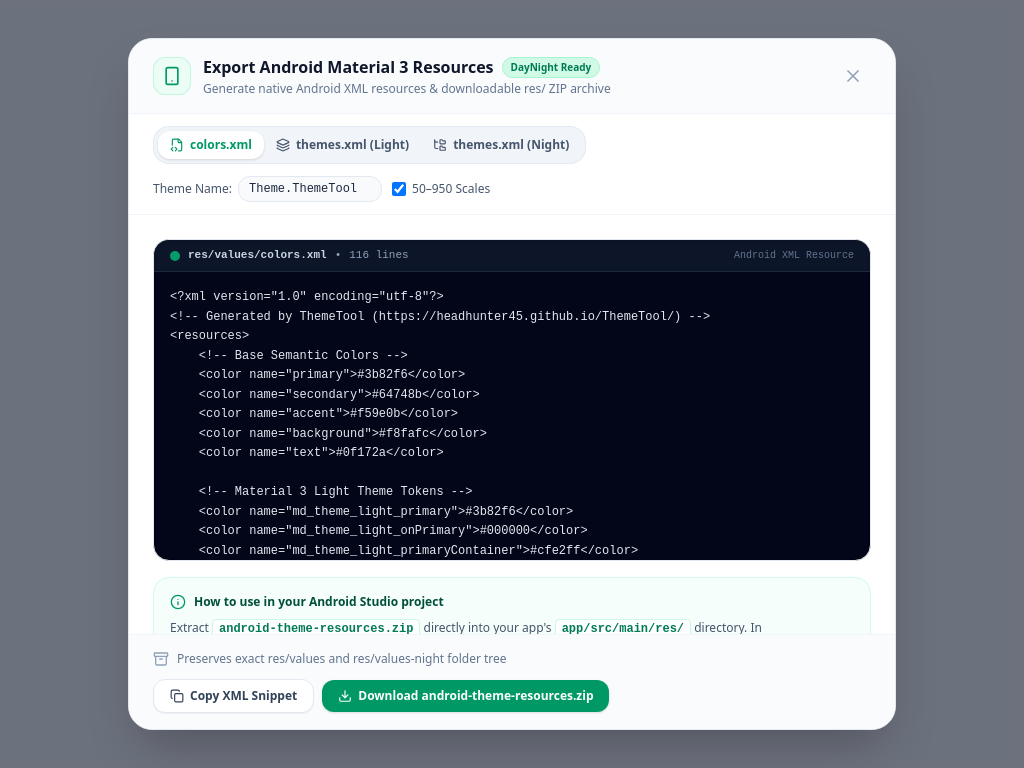
Test: ExportAndroidModal (TT-016) › copies XML snippet to clipboard with confirmation
Click the button "Copy XML Snippet" at (234, 696), box left=153, top=679, right=314, bottom=713
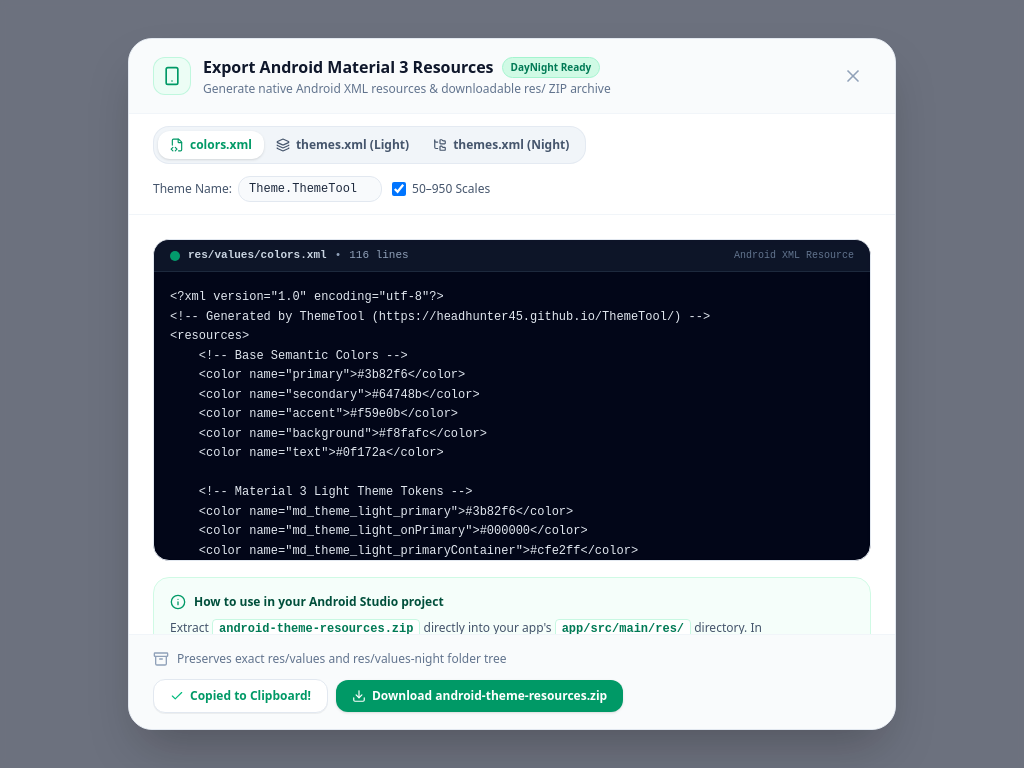
Expected: the text "Copied to Clipboard!" is shown, left=190, top=688, right=311, bottom=704
